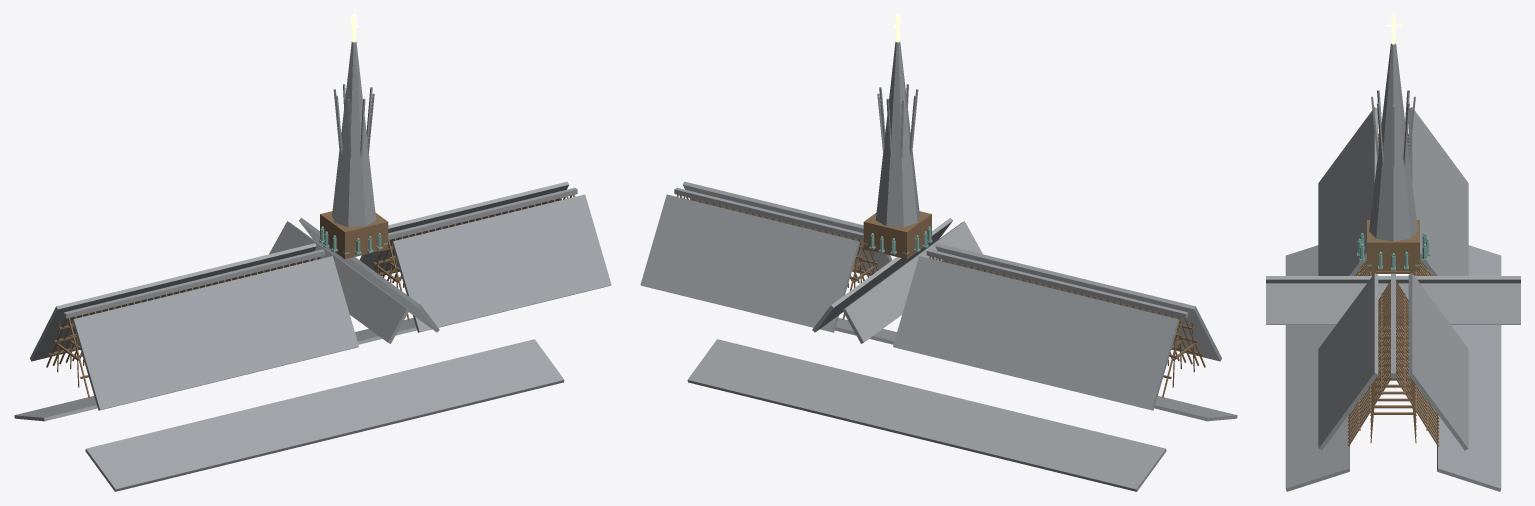
The model's file is 06_roof_fleche.glb.
3 renders of one model, left to right at view 1: azimuth 30°, elevation 25°; view 2: azimuth 150°, elevation 25°; view 3: azimuth 270°, elevation 25°, orthographic. The views are drawn at different scales.
Parts seen in each view (by area): view 1: roof_fleche_lead, roof_fleche_lead_nocol, roof_fleche_oak_nocol, roof_fleche_oak; view 2: roof_fleche_lead, roof_fleche_lead_nocol, roof_fleche_oak_nocol, roof_fleche_oak; view 3: roof_fleche_lead, roof_fleche_oak_nocol, roof_fleche_oak, roof_fleche_lead_nocol, roof_fleche_copper_nocol.
Boxes of the visible parts, bbox=[...] form: roof_fleche_lead: bbox=[14, 41, 611, 491]; roof_fleche_lead_nocol: bbox=[63, 84, 577, 318]; roof_fleche_oak_nocol: bbox=[46, 194, 575, 397]; roof_fleche_oak: bbox=[320, 211, 388, 259]; roof_fleche_lead: bbox=[640, 41, 1237, 491]; roof_fleche_lead_nocol: bbox=[674, 84, 1188, 318]; roof_fleche_oak_nocol: bbox=[676, 194, 1205, 397]; roof_fleche_oak: bbox=[863, 211, 931, 259]; roof_fleche_lead: bbox=[1266, 43, 1520, 491]; roof_fleche_oak_nocol: bbox=[1347, 133, 1439, 446]; roof_fleche_oak: bbox=[1367, 220, 1419, 271]; roof_fleche_lead_nocol: bbox=[1371, 90, 1415, 377]; roof_fleche_copper_nocol: bbox=[1357, 233, 1429, 270].
Size of what is drawn, in the model's own units: 118 by 82.09 by 48.
